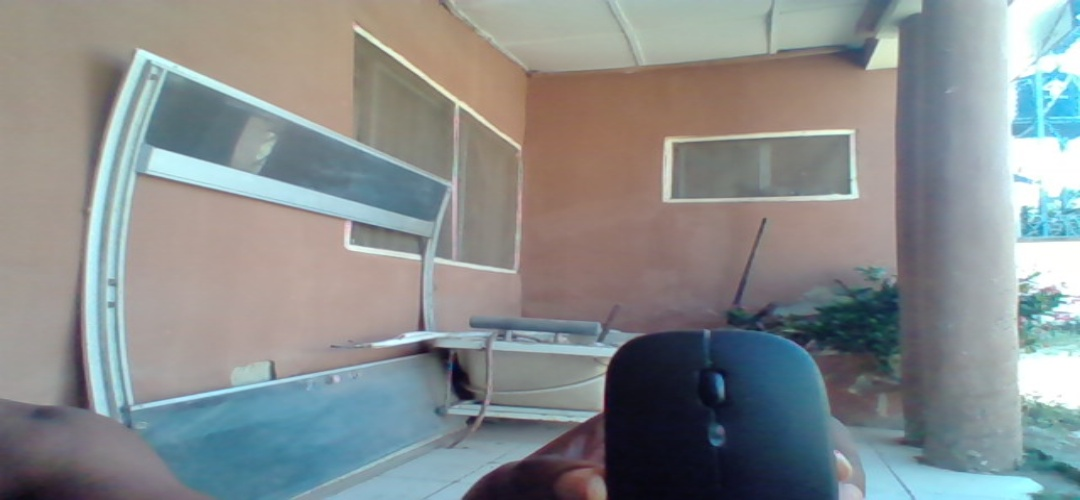wireless_mouse: (595, 325, 843, 499)
